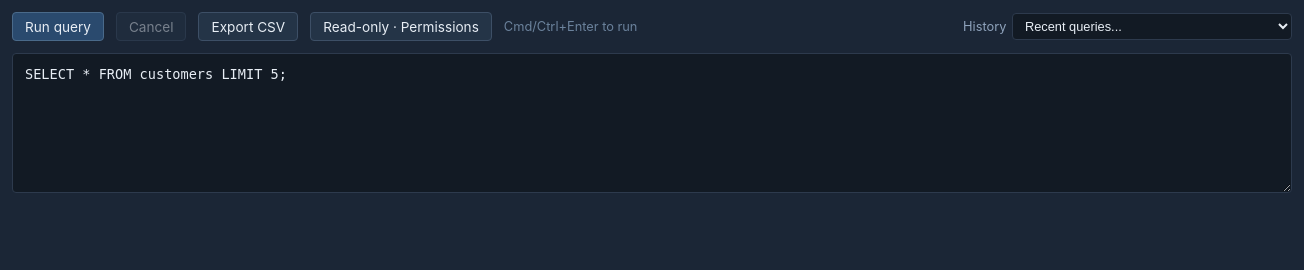
Test: SqlEditor permissions › shows the SQLite error detail
The image size is (1304, 270).
expect the button "Read-only · Permissions" is shown: met, box [310, 12, 492, 41]
Click the button "Run query" at point(58, 27), box [12, 12, 104, 41]
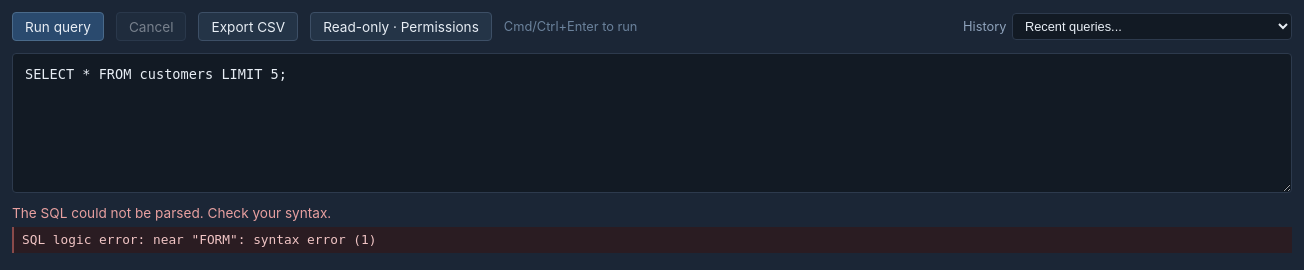
expect the text "SQL logic error: near \"FORM\": syntax error (1)" is shown: met, box [12, 227, 1292, 253]
